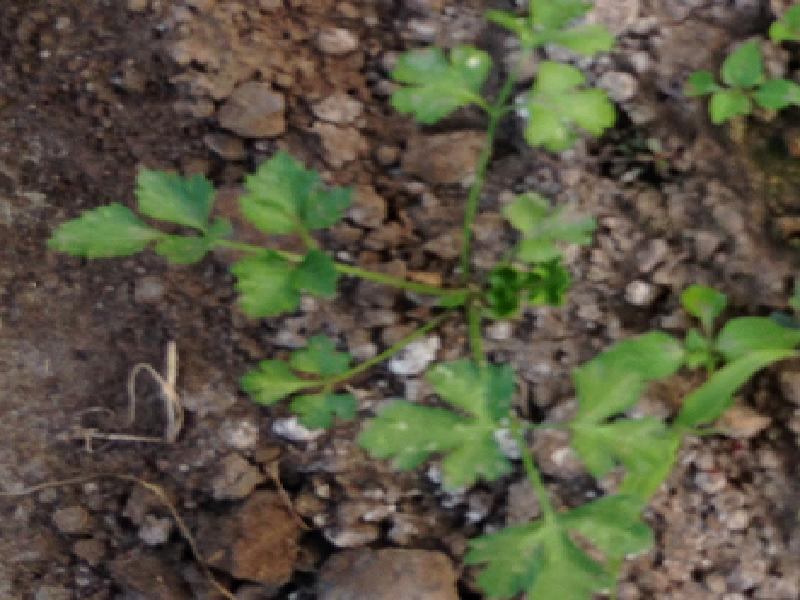radish: (0, 101, 800, 582)
